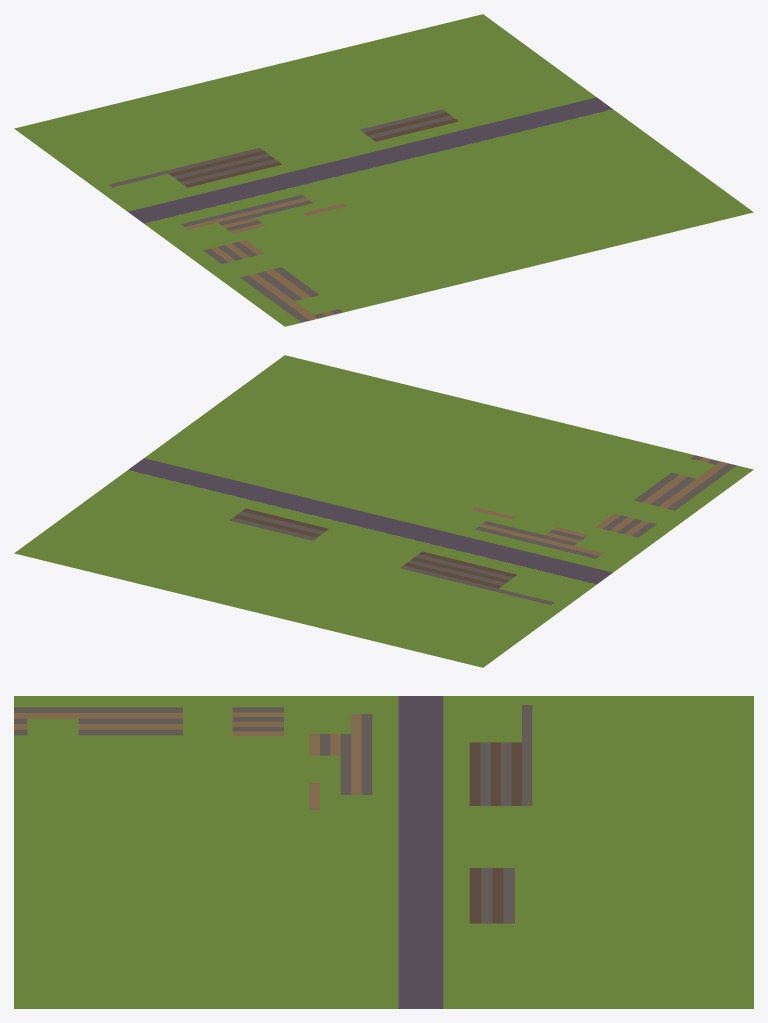
File: cure-8-1.glb
3 views of the same model, one above another, from view 1: azimuth 30°, elevation 25°; view 2: azimuth 150°, elevation 25°; view 3: azimuth 270°, elevation 25° (orthographic). The views are drawn at different scales.
Parts seen in each view (by area): view 1: cure-8-1; view 2: cure-8-1; view 3: cure-8-1.
Part boxes in pixels (x1=…): cure-8-1: x1=14, y1=14, x2=753, y2=326; cure-8-1: x1=14, y1=355, x2=753, y2=667; cure-8-1: x1=14, y1=696, x2=753, y2=1008.
Size of the model in its own units: 100 by 0.008 by 100.
